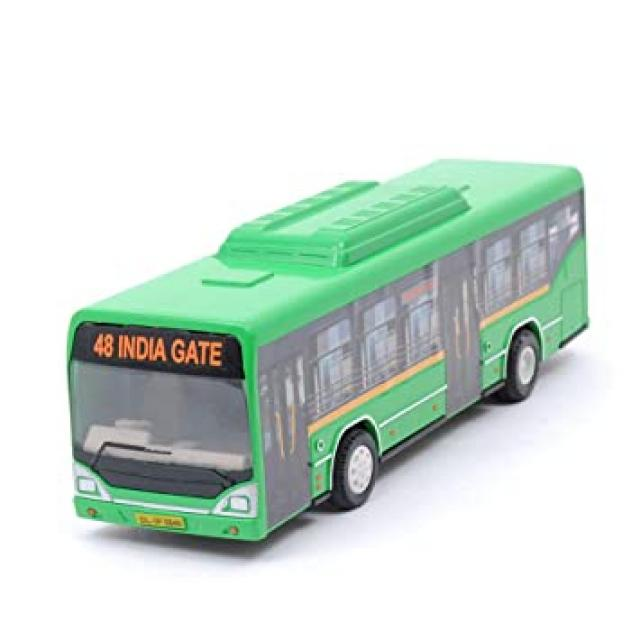bus: (70, 153, 590, 540)
